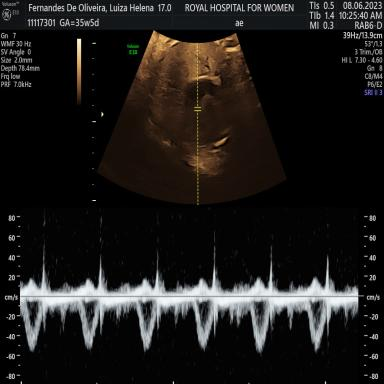Ultrasound-Waves: (25, 209, 356, 384)
